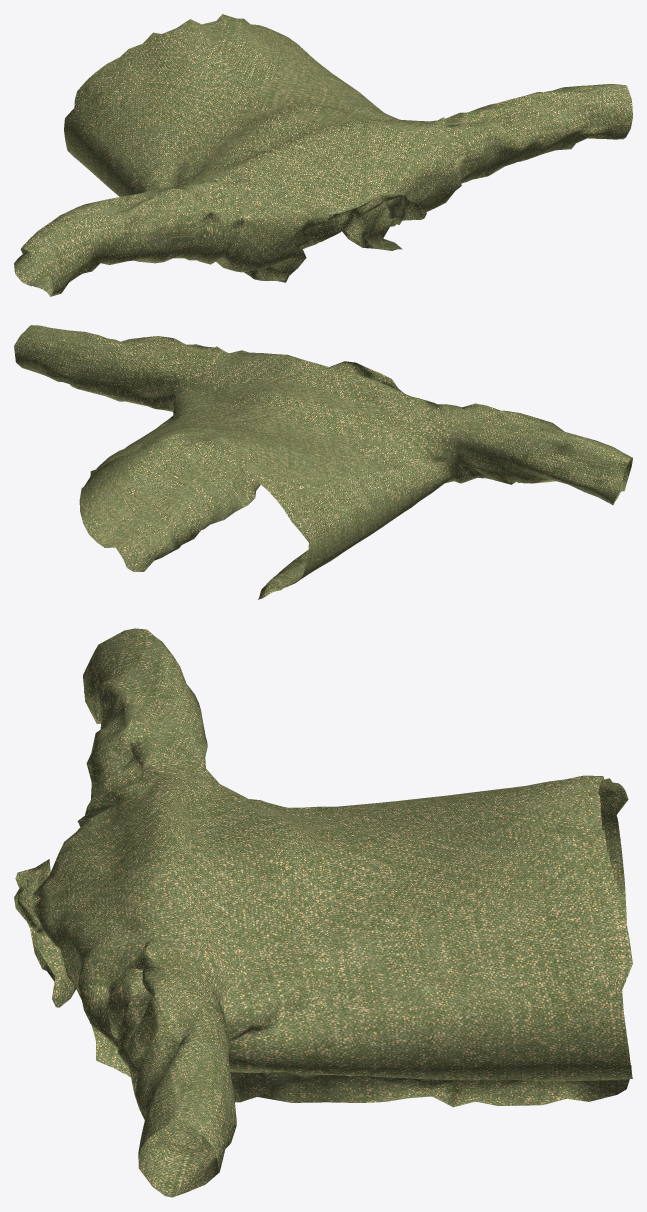
The model's file is shirt.obj.
3 renders of one model, top to bottom at view 1: azimuth 30°, elevation 25°; view 2: azimuth 150°, elevation 25°; view 3: azimuth 270°, elevation 25°, orthographic. The views are drawn at different scales.
Bounding box in the file's own units: 1.31 × 0.3195 × 0.6873.
Materials: 1 (1 with a texture image).
